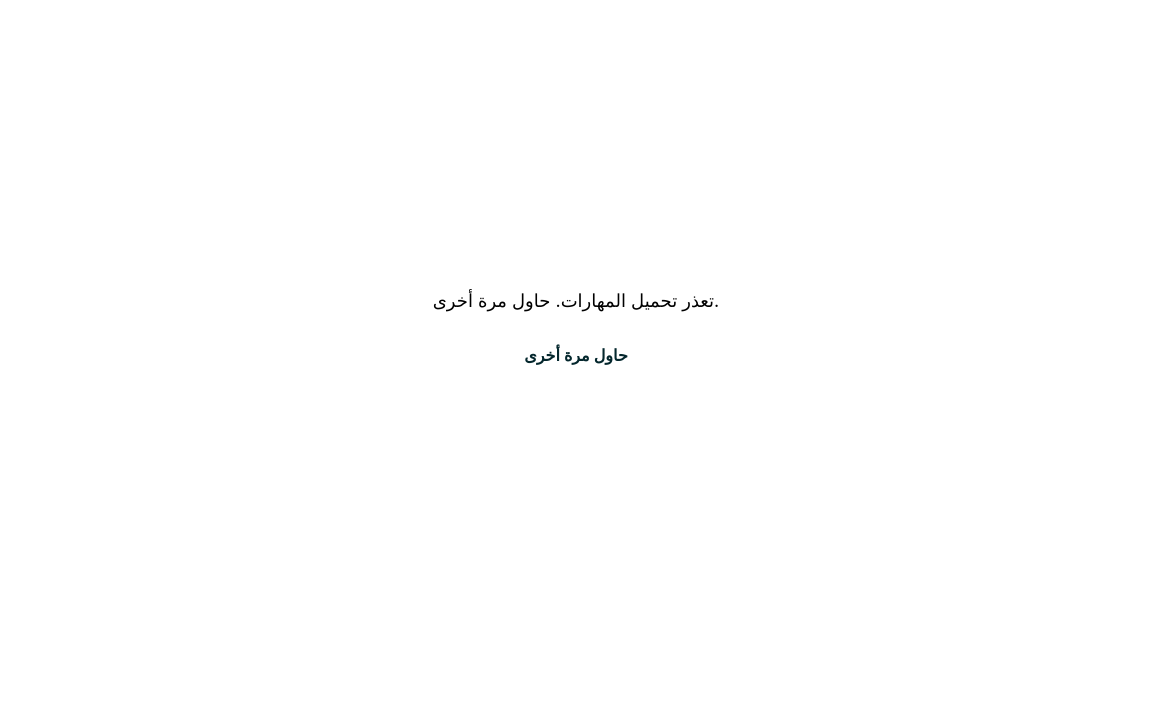
Test: skills load error › shows a localized error with Retry instead of an empty grid
Check: the message reads "تعذر تحميل المهارات. حاول مرة أخرى.", box x1=433 y1=290 x2=719 y2=311
Click the button "حاول مرة أخرى" at (576, 355), box x1=500 y1=331 x2=652 y2=379
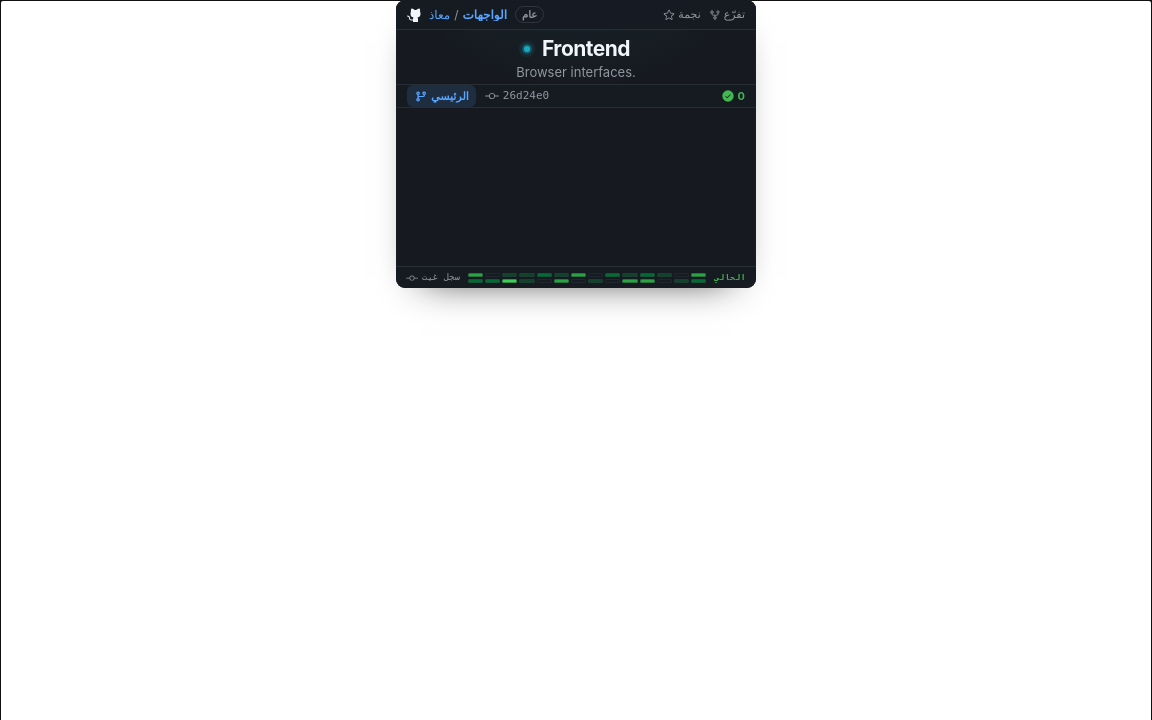
Check: the heading "Frontend" is shown, box x1=522 y1=36 x2=630 y2=61
Check: the text "تعذر تحميل المهارات. حاول مرة أخرى." is gone
